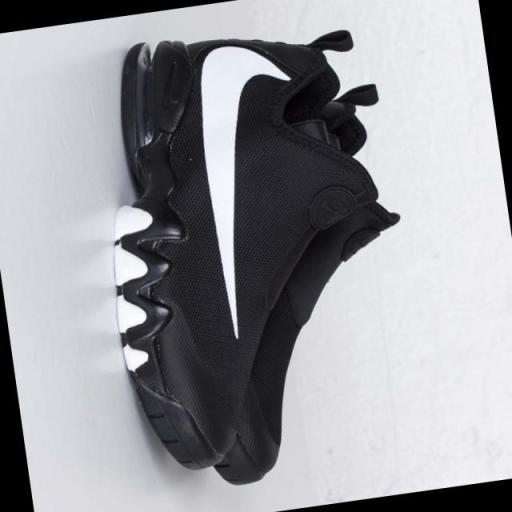Nike: (191, 35, 327, 353)
